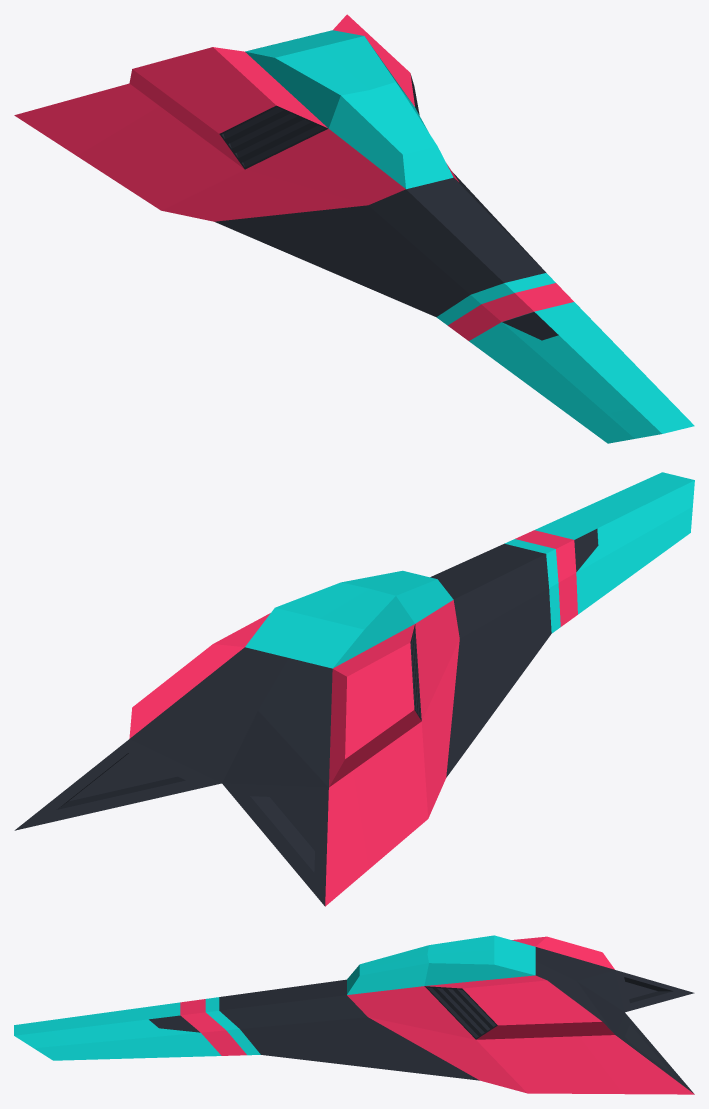
Rendered from feisar.fbx.
The picture shows the model from 3 angles, top to bottom: view 1: azimuth 30°, elevation 25°; view 2: azimuth 150°, elevation 25°; view 3: azimuth 270°, elevation 25°; orthographic projection. The views are drawn at different scales.
Parts seen in each view (by area): view 1: ship 1; view 2: ship 1; view 3: ship 1.
Part boxes in pixels (<box>): ship 1: <box>14,14,694,443</box>; ship 1: <box>14,472,694,906</box>; ship 1: <box>14,935,694,1094</box>.
Size of the model in its own units: 466 by 214 by 1321.
